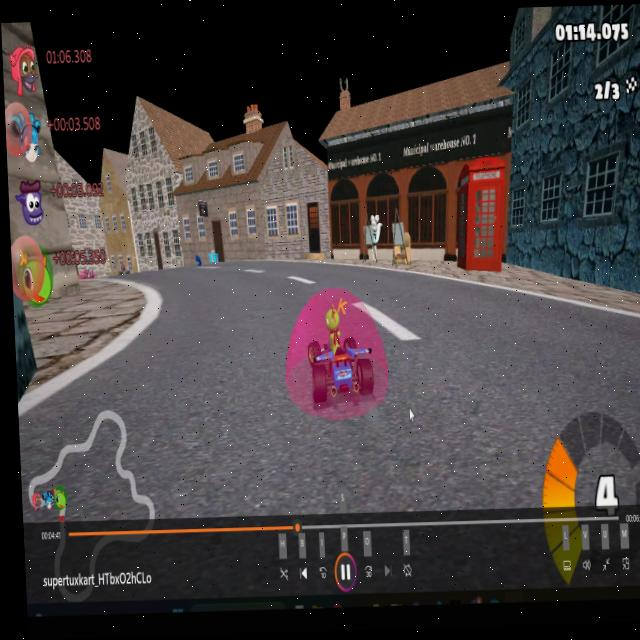bonus: (208, 249, 219, 263)
nitro: (192, 248, 203, 268)
player_kart: (286, 295, 391, 408)
track: (298, 403, 640, 517), (152, 290, 301, 520), (386, 266, 507, 407), (20, 413, 163, 525), (507, 332, 640, 410), (508, 292, 600, 336), (95, 362, 157, 414), (193, 263, 319, 288), (320, 264, 389, 295), (127, 266, 192, 291), (64, 381, 97, 414), (134, 337, 157, 359)
